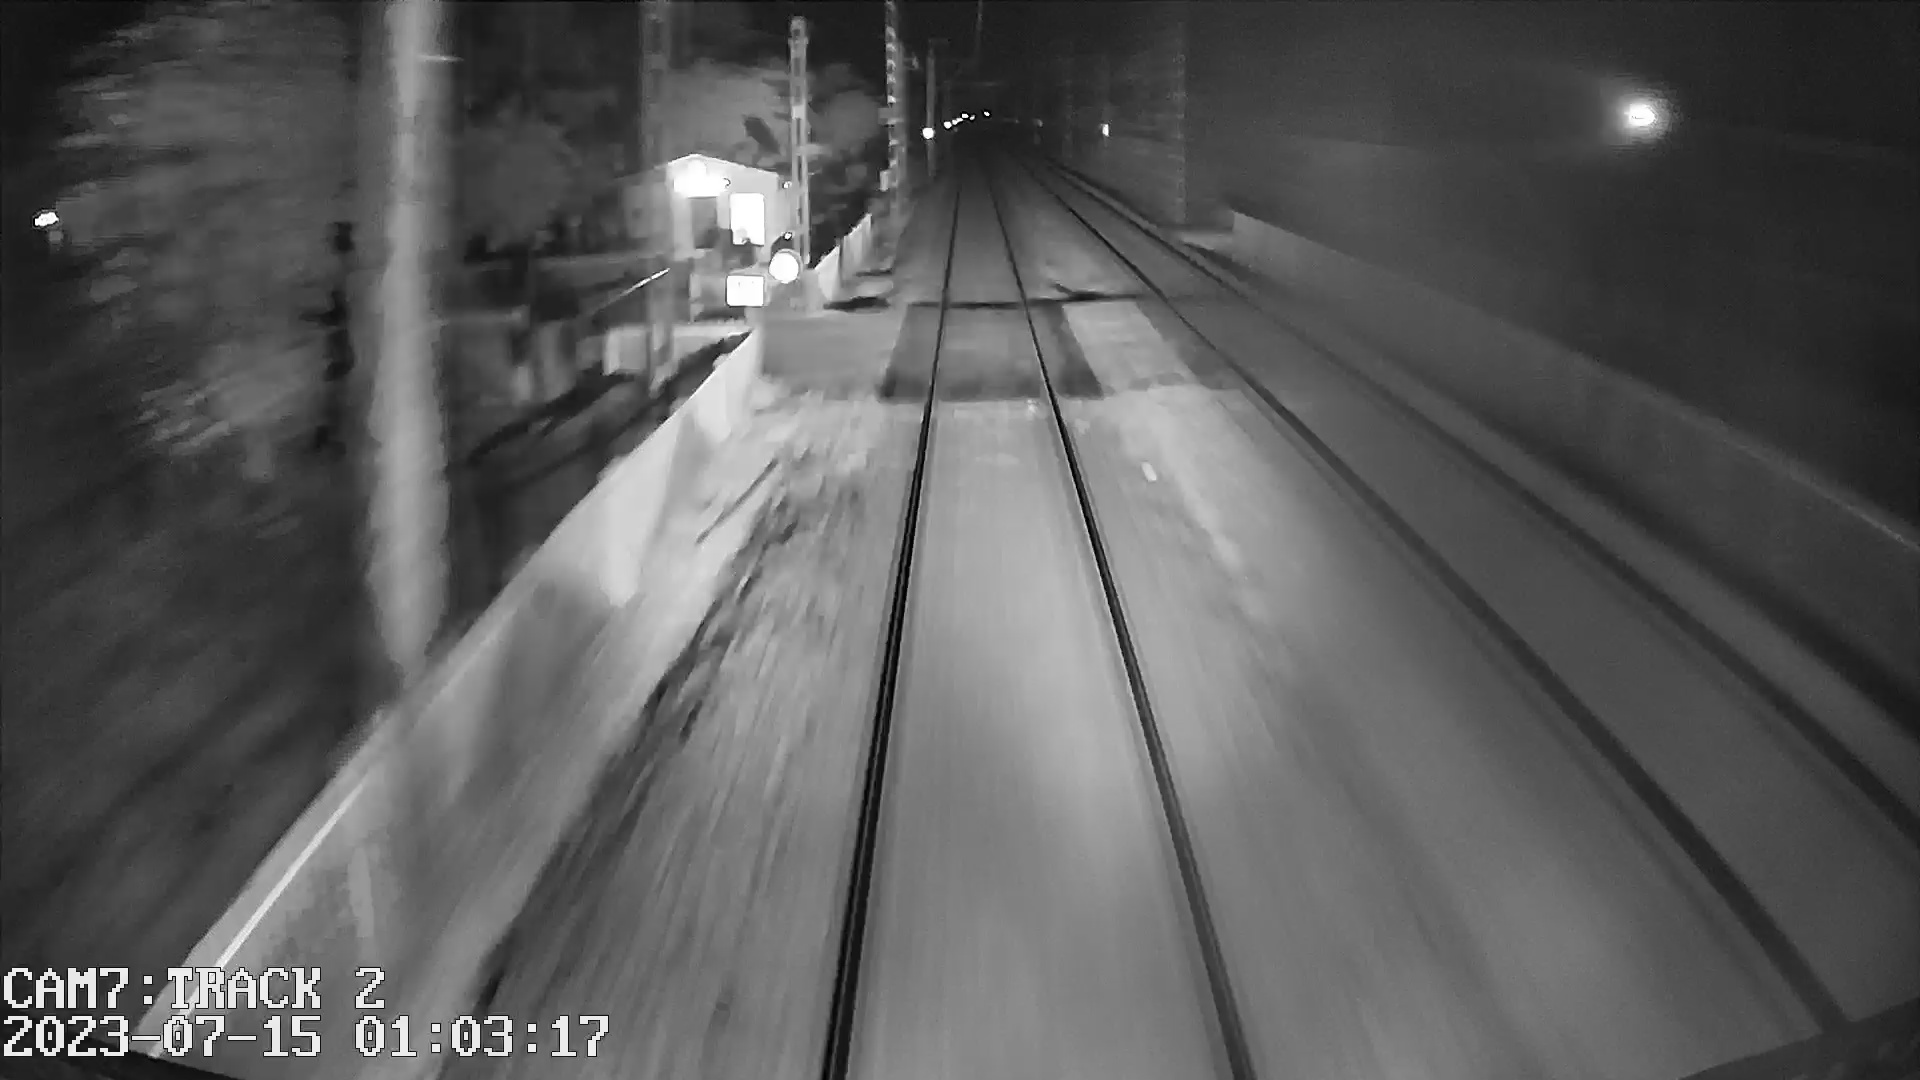track1: (840, 173, 1237, 1063)
track2: (1030, 161, 1904, 939)
